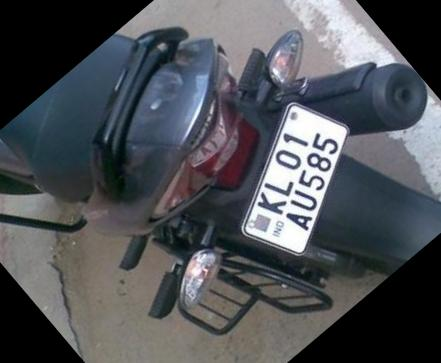plate: (207, 93, 379, 256)
